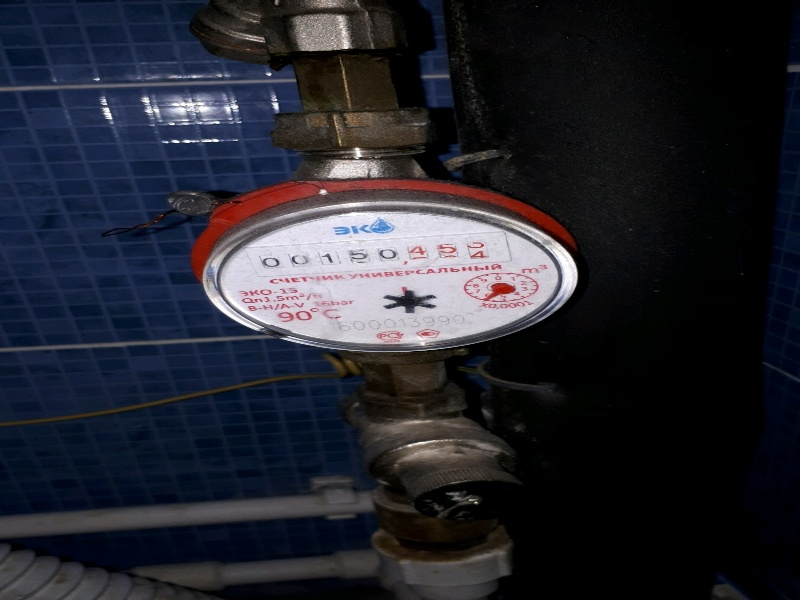meter: (244, 243, 501, 267)
